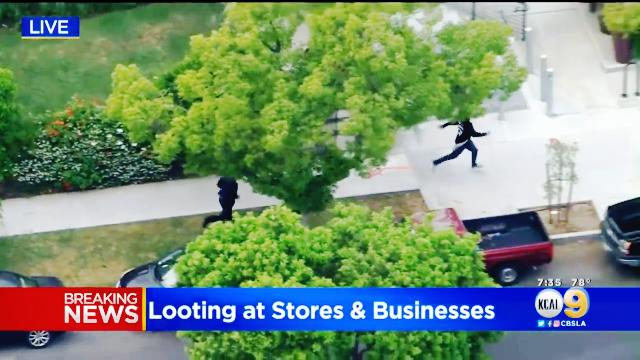berlari: (430, 100, 490, 174), (198, 162, 242, 234)
